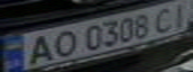0: (78, 21, 106, 52), (118, 14, 139, 43)
3: (103, 18, 124, 47)
8: (130, 10, 157, 38)
A: (18, 32, 60, 65)
C: (148, 4, 181, 34)
I: (166, 0, 193, 32)
O: (45, 27, 81, 58)
